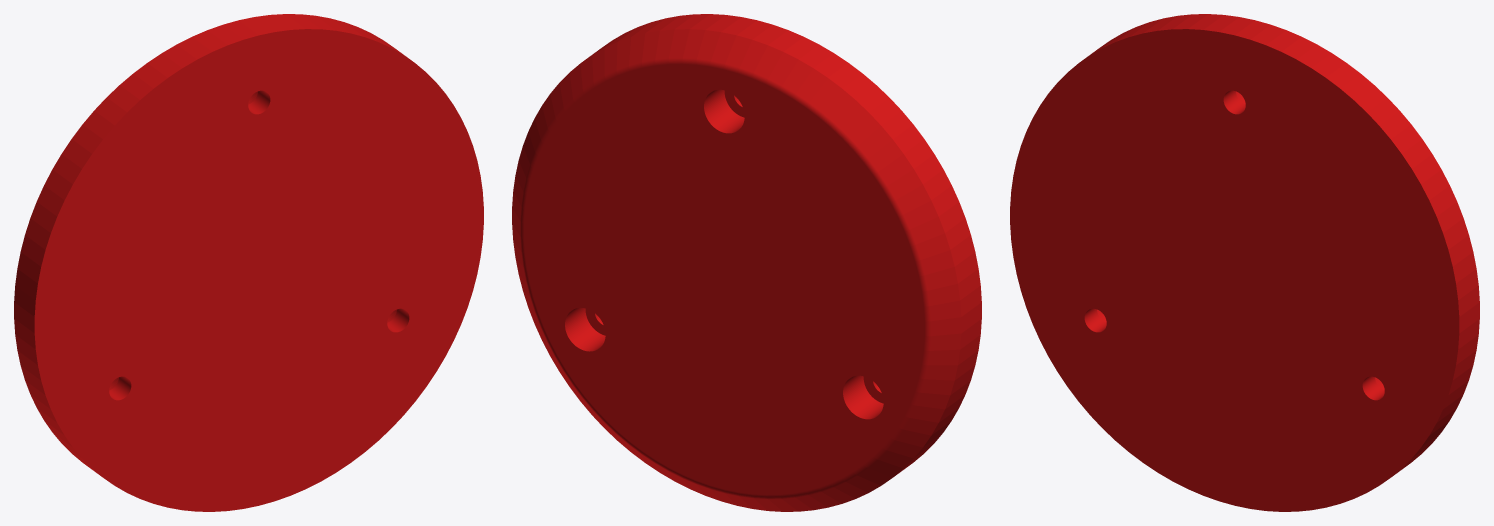
Rendered from Tapa 2M1.dae.
3 views of the same model, side by side, from view 1: azimuth 30°, elevation 25°; view 2: azimuth 150°, elevation 25°; view 3: azimuth 330°, elevation 25° (orthographic).
Visible parts, largest first — view 1: Tapa_2M1_001; view 2: Tapa_2M1_001; view 3: Tapa_2M1_001.
Part boxes in pixels (x1=…): Tapa_2M1_001: x1=14, y1=14, x2=483, y2=511; Tapa_2M1_001: x1=512, y1=14, x2=981, y2=511; Tapa_2M1_001: x1=1010, y1=14, x2=1479, y2=511.
Size of the model in its own units: 62.96 by 8 by 63.
